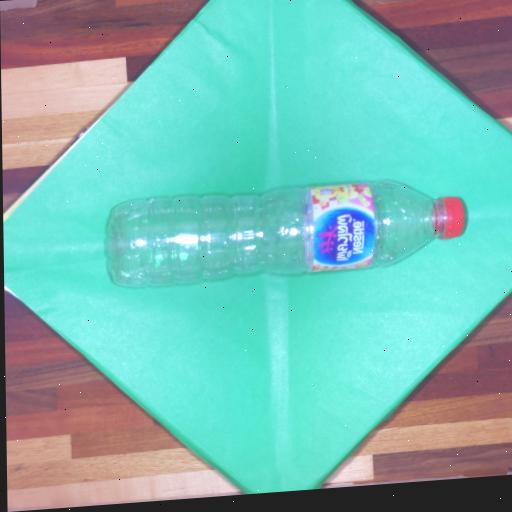bottle: (103, 170, 468, 289)
